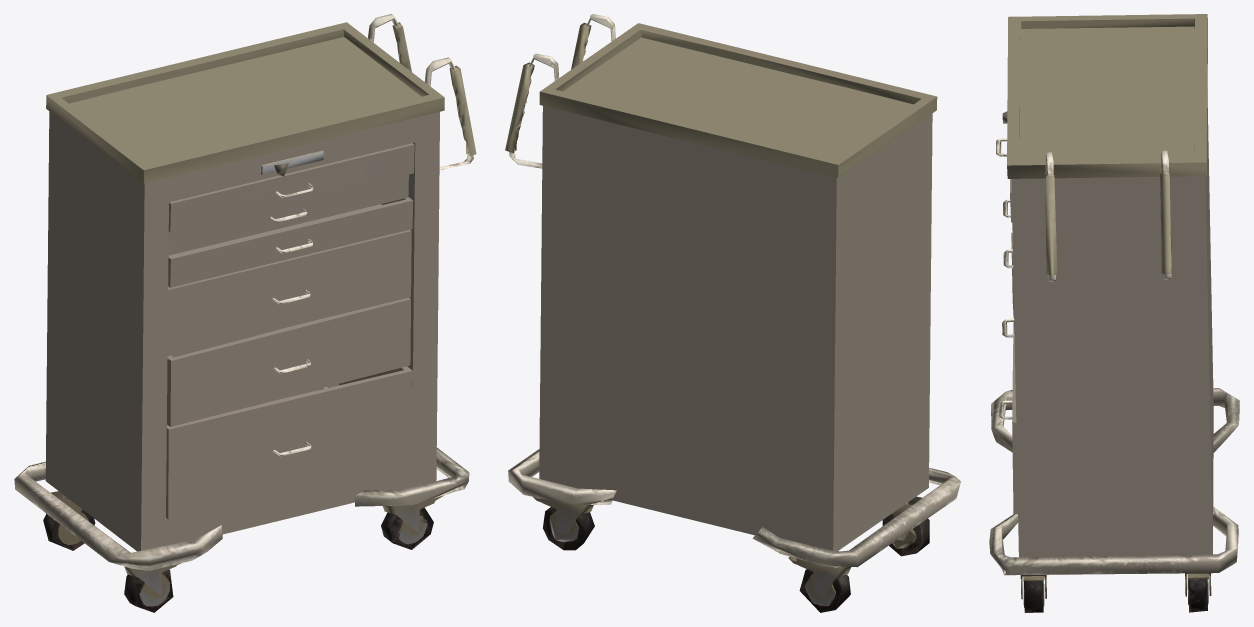
The model's file is rusty-cart.lod0.glb.
3 renders of one model, left to right at view 1: azimuth 30°, elevation 25°; view 2: azimuth 150°, elevation 25°; view 3: azimuth 270°, elevation 25°, orthographic.
Visible parts, largest first — view 1: Object_2, Object_4; view 2: Object_2, Object_4; view 3: Object_2, Object_4.
Boxes of the visible parts, x1,y1,x2,y2 form: Object_2: (45, 22, 444, 551); Object_4: (14, 14, 476, 612); Object_2: (539, 23, 937, 551); Object_4: (505, 14, 960, 612); Object_2: (1007, 14, 1213, 557); Object_4: (989, 111, 1239, 612).
Size of the model in its own units: 0.8339 by 0.9921 by 0.4694.
Materials: 2 (1 with a texture image).
